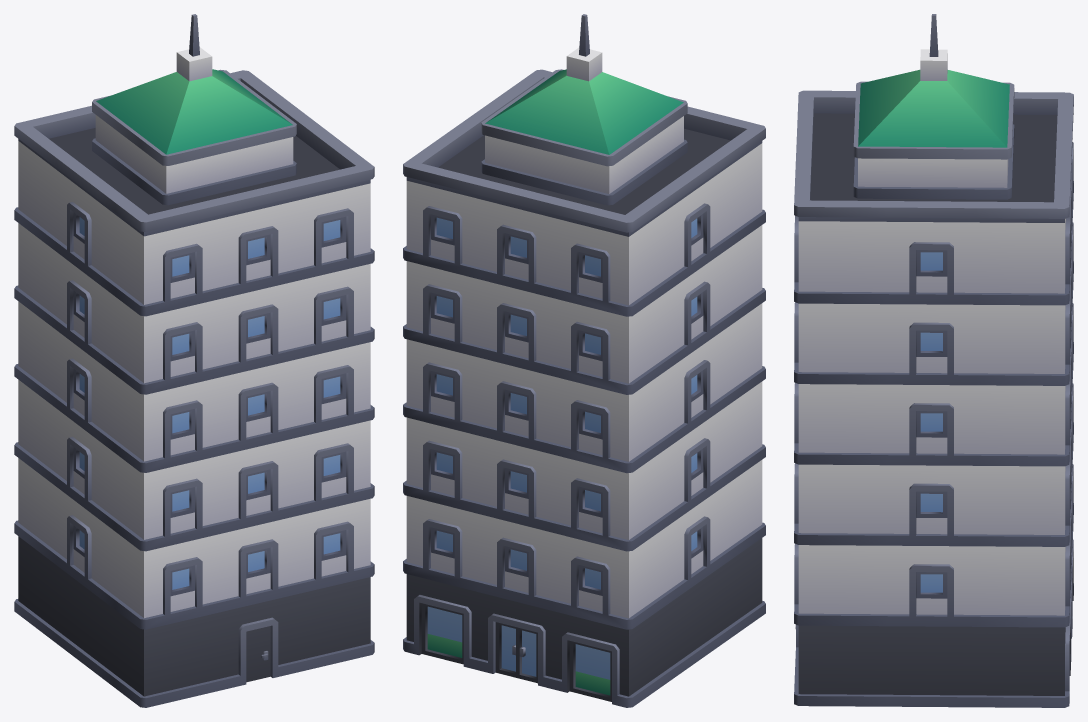
The model's file is building-m.056_lev1.glb.
3 renders of one model, left to right at view 1: azimuth 30°, elevation 25°; view 2: azimuth 150°, elevation 25°; view 3: azimuth 270°, elevation 25°, orthographic. The views are drawn at different scales.
Parts seen in each view (by area): view 1: building-m.056_lev1; view 2: building-m.056_lev1; view 3: building-m.056_lev1.
Boxes of the visible parts, x1,y1,x2,y2 form: building-m.056_lev1: [14, 14, 374, 707]; building-m.056_lev1: [403, 14, 765, 707]; building-m.056_lev1: [794, 14, 1073, 707].
Bounding box in the file's own units: 6.3 × 15.75 × 6.3.
Materials: 1 (1 with a texture image).
